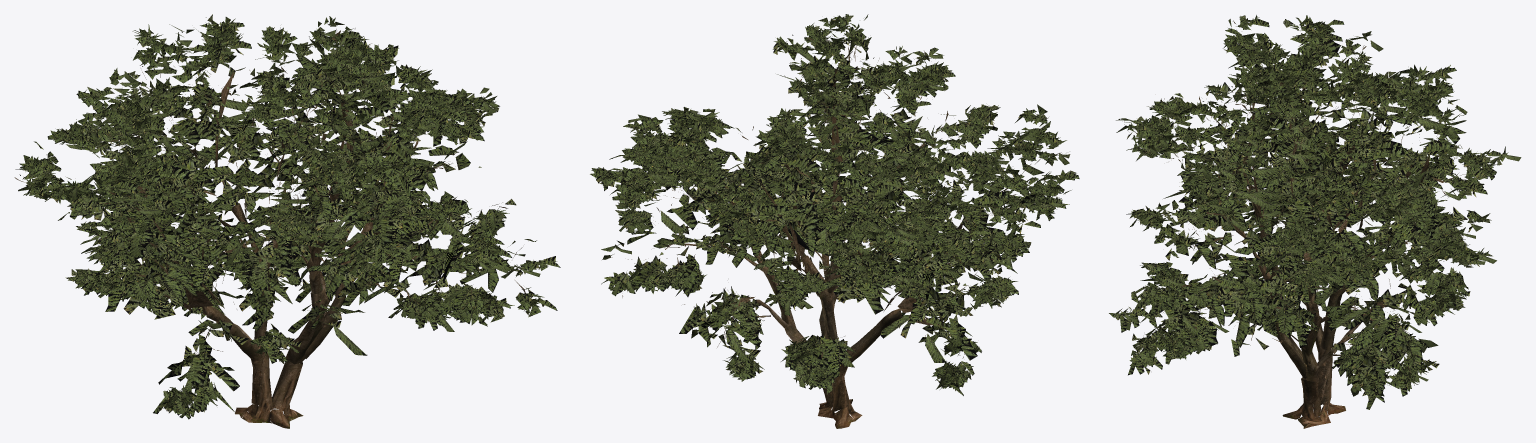
The model's file is ph_jacaranda_tree_lod1.glb.
3 renders of one model, left to right at view 1: azimuth 30°, elevation 25°; view 2: azimuth 150°, elevation 25°; view 3: azimuth 270°, elevation 25°, orthographic. The views are drawn at different scales.
Parts seen in each view (by area): view 1: ph_jacaranda_tree_lod1; view 2: ph_jacaranda_tree_lod1; view 3: ph_jacaranda_tree_lod1.
Boxes of the visible parts, x1,y1,x2,y2 form: ph_jacaranda_tree_lod1: (14,14,560,428); ph_jacaranda_tree_lod1: (590,14,1079,428); ph_jacaranda_tree_lod1: (1109,15,1521,428).
Size of the model in its own units: 24.35 by 19.55 by 19.69.
Materials: 3 (3 with a texture image).
